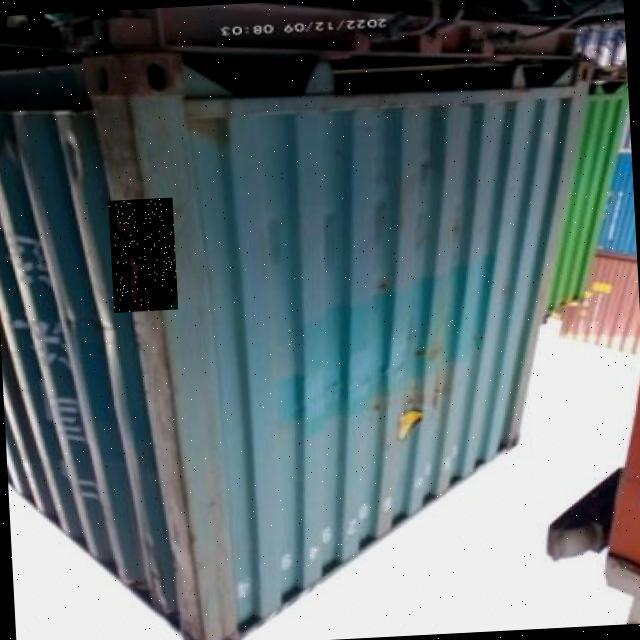Dent: (109, 198, 179, 313)
